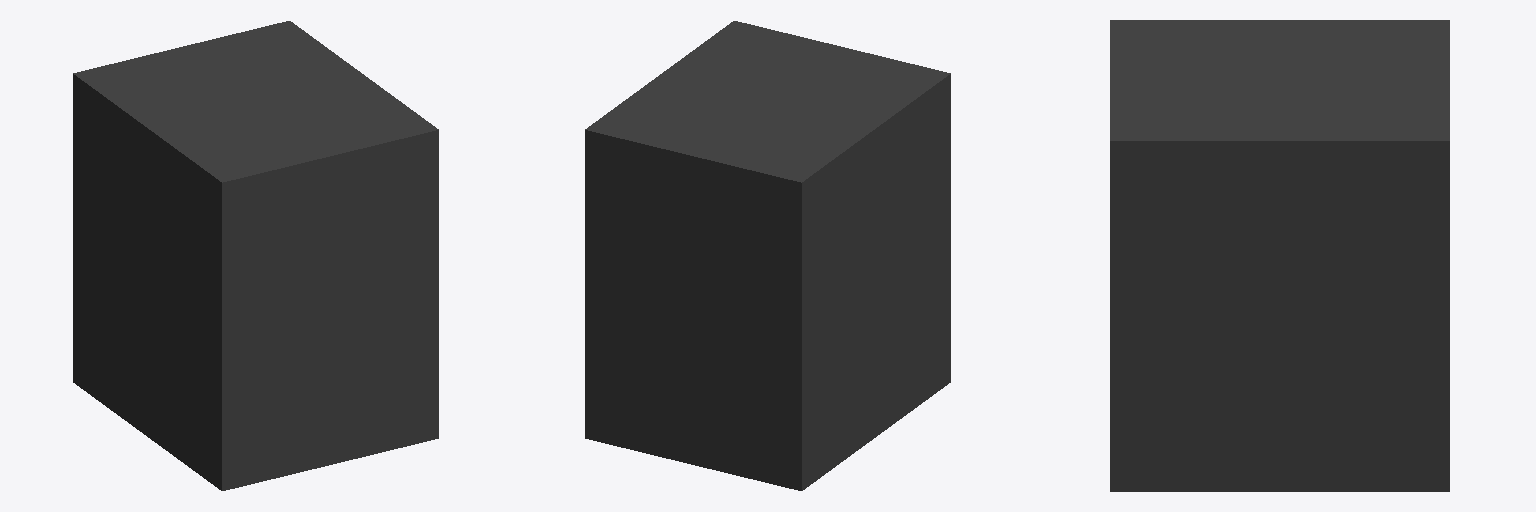
The robot description file, URDF, robot "box.urdf":
<?xml version="1.0" ?>
<robot name="box.urdf">
  <link name="baseLink">
    <contact>
      <lateral_friction value="1.0"/>
      <rolling_friction value="0.0001"/>
      <inertia_scaling value="3.0"/>
    </contact>
    <inertial>
      <origin rpy="0 0 0" xyz="0 0 0"/>
       <mass value="0.1"/>
       <inertia ixx="1" ixy="0" ixz="0" iyy="1" iyz="0" izz="1"/>
    </inertial>
    <visual>
      <origin rpy="0 0 0" xyz="0 0 0"/>
      <geometry>
        <!-- <box size="0.203 0.242 0.276"/> -->
        <mesh filename="box/box.obj" scale="0.203 0.242 0.276"/>
      </geometry>
      <material name="white">
        <color rgba="0.3 0.3 0.3 1"/>
      </material>
    </visual>
    <collision>
      <origin rpy="0 0 0" xyz="0 0 0"/>
      <geometry>
        <mesh filename="box/box.obj" scale="0.203 0.242 0.276"/>
	 	    <!-- <box size="0.203 0.242 0.276"/> -->
      </geometry>
    </collision>
  </link>
</robot>

--- What the picture shows (computed from the rendered views, not written in the file) ---
The picture shows the robot from 3 angles, left to right: view 1: azimuth 30°, elevation 25°; view 2: azimuth 150°, elevation 25°; view 3: azimuth 270°, elevation 25°; orthographic projection.
Model box.urdf with 1 links and 0 joints (none), rooted at baseLink, posed every joint at zero.
Visible links, largest first — view 1: baseLink; view 2: baseLink; view 3: baseLink.
Link boxes in pixels (x1,y1,x2,y2): baseLink: (73,21,438,490); baseLink: (585,21,950,490); baseLink: (1110,20,1449,491).
Size in the robot's own frame: 0.203 by 0.242 by 0.276 metres.
1 mesh visuals loaded from 1 distinct referenced files (1 OBJ).
